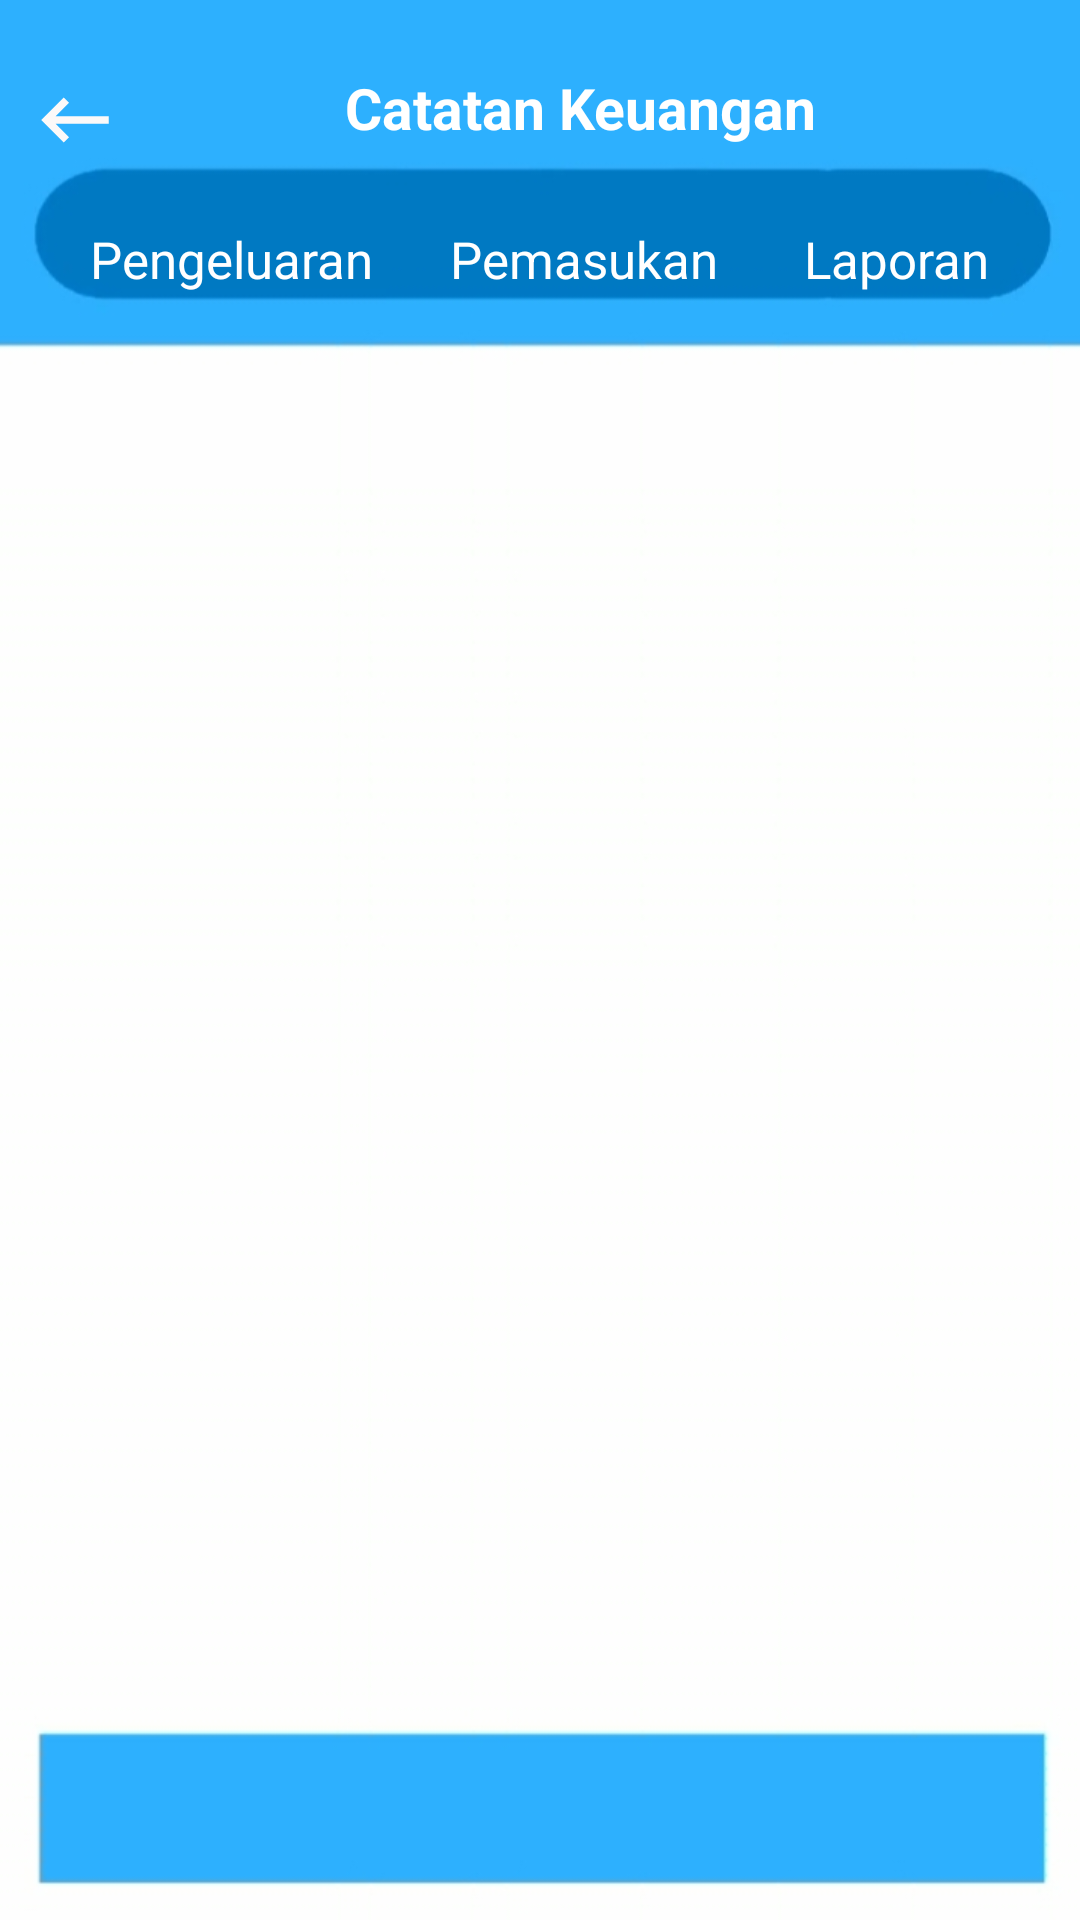

Locate icon controls on the screen. Image size 1080px×1920px, boxes as bbox(x1, y1, x2, y2).
back: bbox(41, 97, 109, 143)
